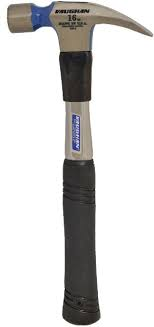hammer: (6, 1, 154, 327)
